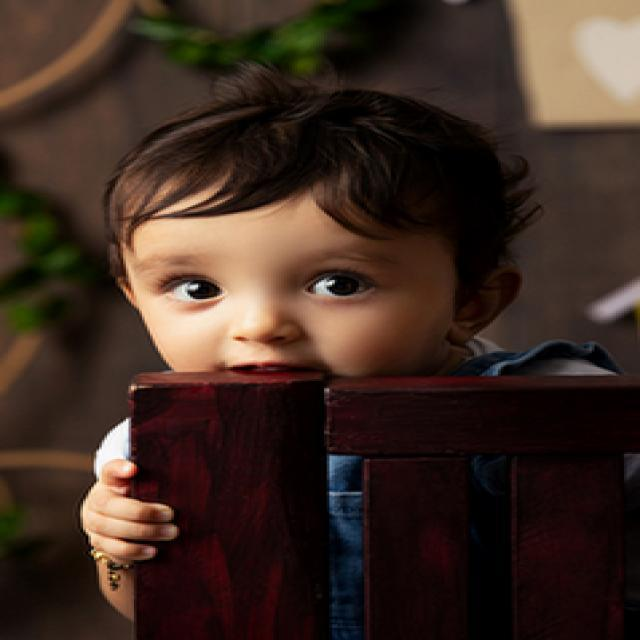non-dog: (79, 64, 640, 640)
